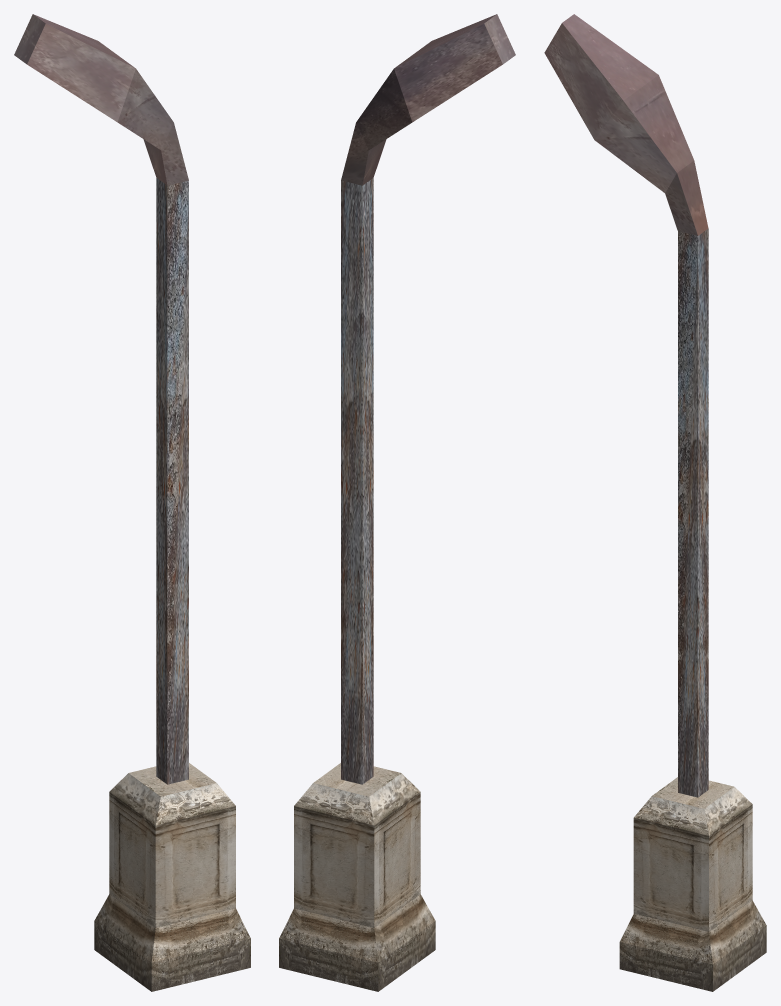
Rendered from lighter.fbx.
3 views of the same model, side by side, from view 1: azimuth 30°, elevation 25°; view 2: azimuth 150°, elevation 25°; view 3: azimuth 330°, elevation 25° (orthographic). The views are drawn at different scales.
Visible parts, largest first — view 1: Cube; view 2: Cube; view 3: Cube.
Boxes of the visible parts, x1,y1,x2,y2 form: Cube: (14, 14, 250, 991); Cube: (279, 14, 515, 991); Cube: (544, 14, 766, 991).
Size of the model in its own units: 503 by 2316 by 247.
1 material, 1 textured.
